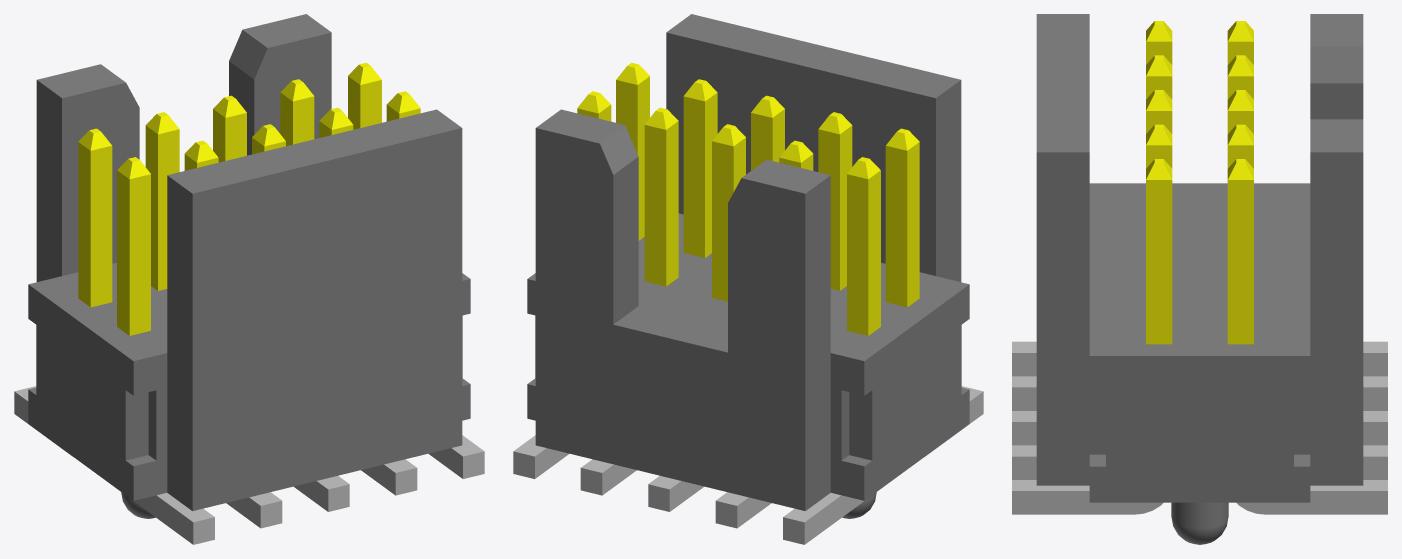
The model's file is FTSH-105-01-X-DV-K-A.glb.
The picture shows the model from 3 angles, left to right: view 1: azimuth 30°, elevation 25°; view 2: azimuth 150°, elevation 25°; view 3: azimuth 270°, elevation 25°; orthographic projection. The views are drawn at different scales.
Visible parts, largest first — view 1: Samtec-FTSH-105-01-F-DV-K-A; view 2: Samtec-FTSH-105-01-F-DV-K-A; view 3: Samtec-FTSH-105-01-F-DV-K-A.
Boxes of the visible parts, left/top/right/bottom form: Samtec-FTSH-105-01-F-DV-K-A: left=14, top=14, right=484, bottom=544; Samtec-FTSH-105-01-F-DV-K-A: left=513, top=14, right=983, bottom=544; Samtec-FTSH-105-01-F-DV-K-A: left=1012, top=14, right=1387, bottom=544.
Bounding box in the file's own units: 0.00635 × 0.00698 × 0.00584.
